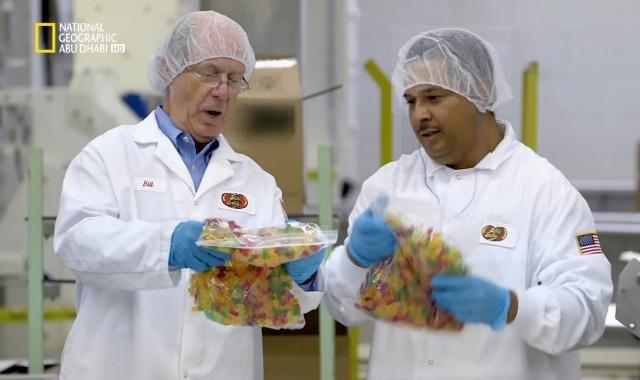apron: (427, 261, 529, 332), (342, 189, 408, 271), (160, 218, 236, 272), (290, 225, 328, 290)
gloves: (392, 25, 512, 114), (154, 12, 255, 84)
no_hairnet: (403, 97, 492, 175), (172, 74, 248, 141)
